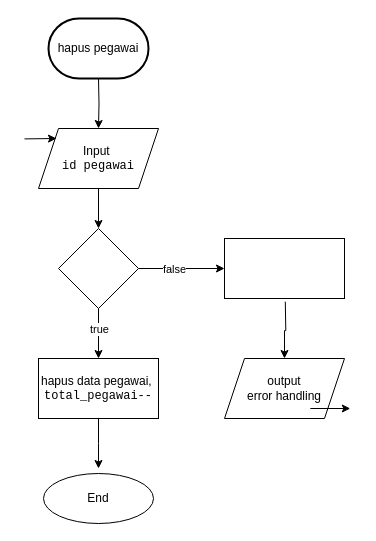
This 376x541 diagram has some shape labels left out. Here are the shapes that lost their labels. From the top down, the centre of each, then its label:
At point (98, 268): "input angka?".
At point (284, 268): "error handling".
